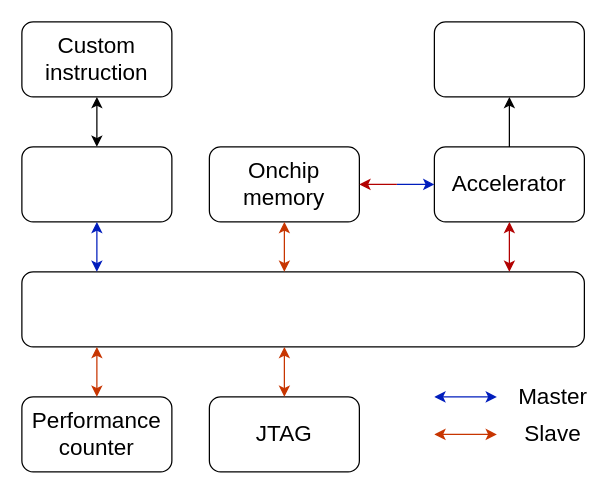
Some shapes in this 609 by 494 pixel diagram are drawn without their labels. The shapes that lost their labels are listed below. From the top down, each one's centre as x and y in pixels, then its label:
At point (508, 59): "GPIO0".
At point (96, 184): "NIOS II Processor".
At point (302, 309): "Avalon bus".
